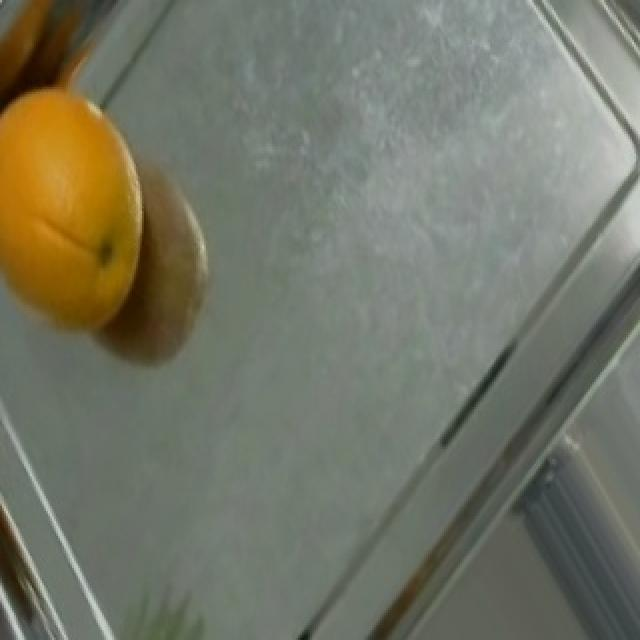Fruit: (0, 74, 172, 364)
